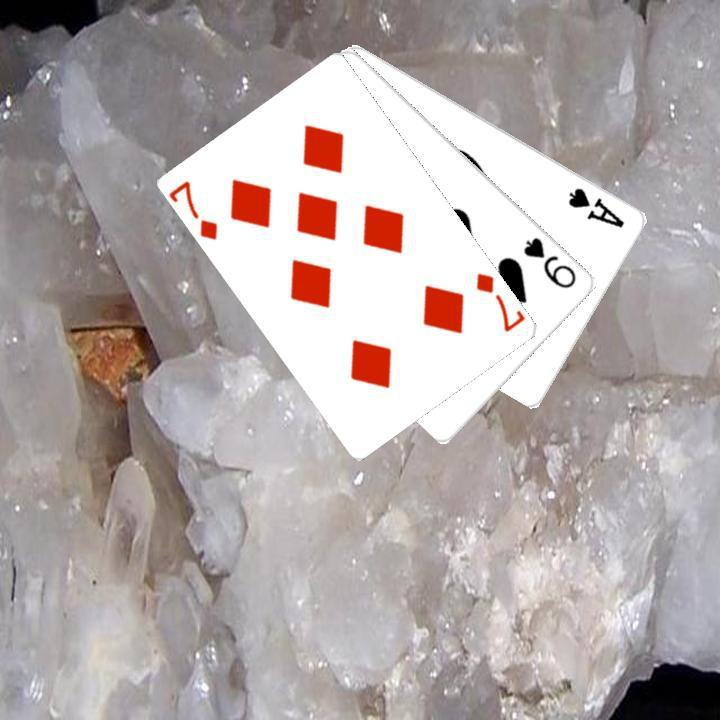7: (472, 268, 526, 335), (167, 176, 221, 242)
9: (519, 232, 579, 291)
A: (564, 183, 627, 230)
